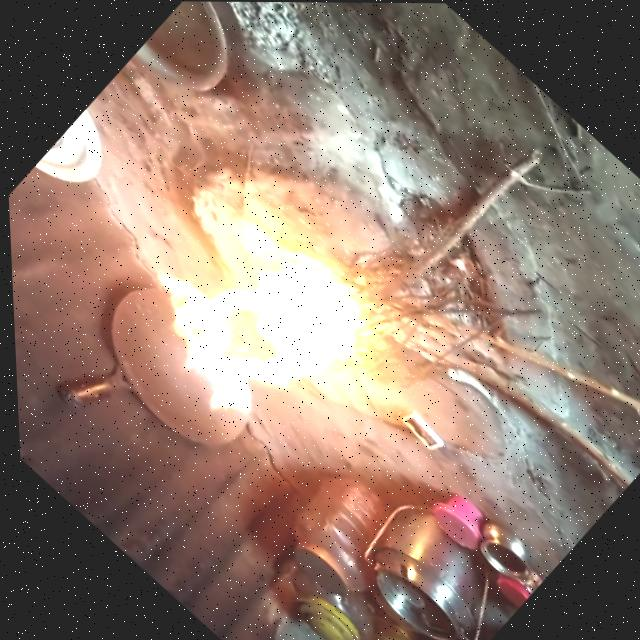Fire: (105, 182, 394, 462)
